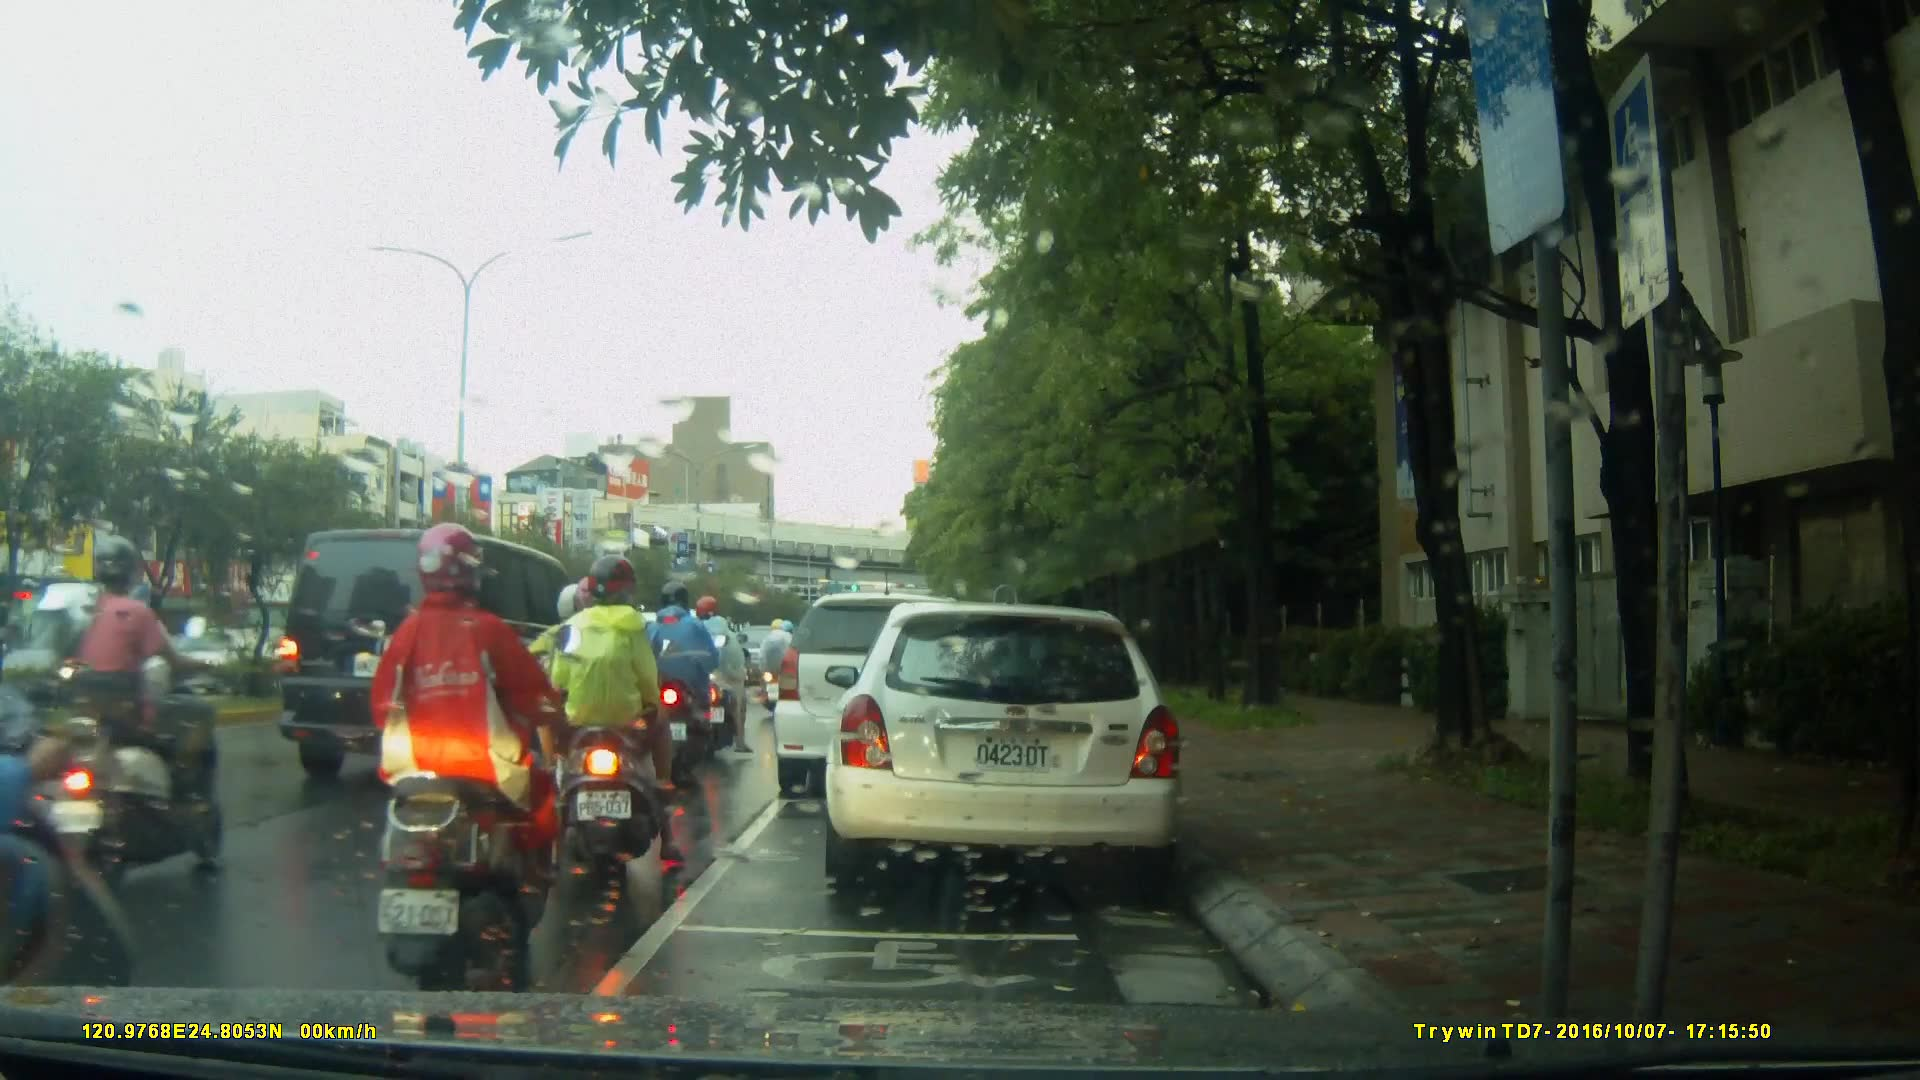rider: (368, 523, 576, 992), (1, 480, 147, 1066), (27, 534, 235, 886), (536, 553, 688, 884), (542, 588, 639, 846), (642, 585, 734, 781), (688, 595, 752, 756), (753, 612, 798, 714)
vehicle: (822, 604, 1188, 883), (265, 526, 622, 793), (774, 595, 995, 802), (547, 610, 744, 746)
